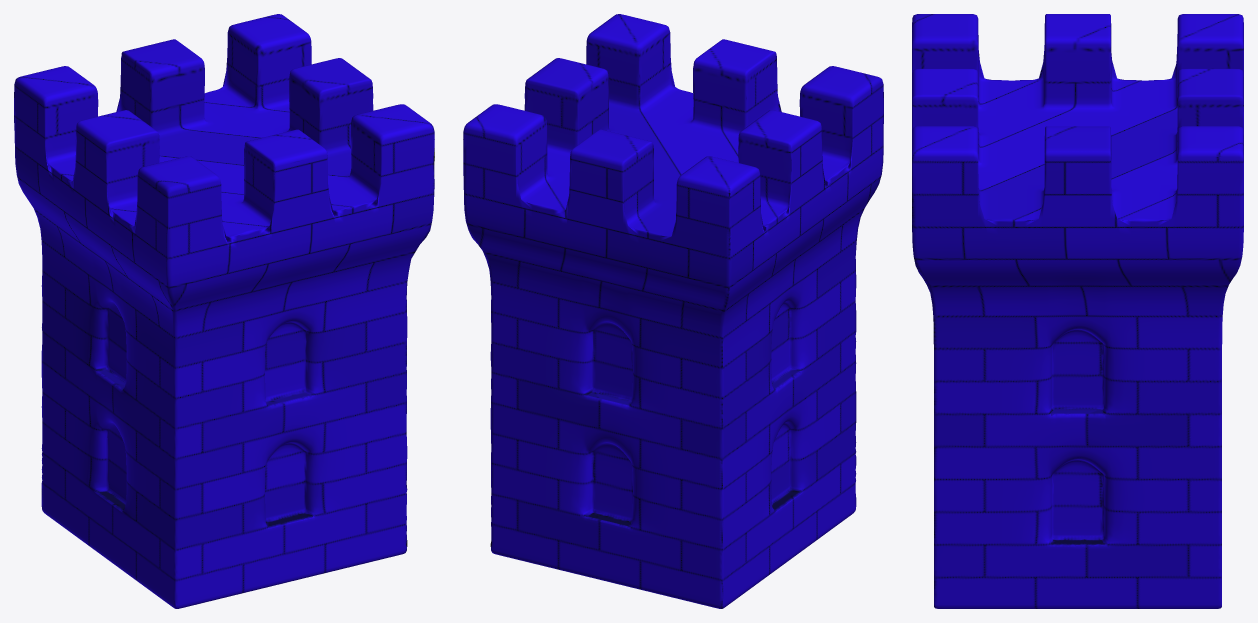
The model's file is Castel.fbx.
3 views of the same model, side by side, from view 1: azimuth 30°, elevation 25°; view 2: azimuth 150°, elevation 25°; view 3: azimuth 270°, elevation 25° (orthographic). The views are drawn at different scales.
Parts seen in each view (by area): view 1: Cube; view 2: Cube; view 3: Cube.
Part boxes in pixels (<box>): Cube: <box>14,14,434,608</box>; Cube: <box>463,14,883,608</box>; Cube: <box>912,14,1243,608</box>.
Size of the model in its own units: 230 by 358 by 230.
